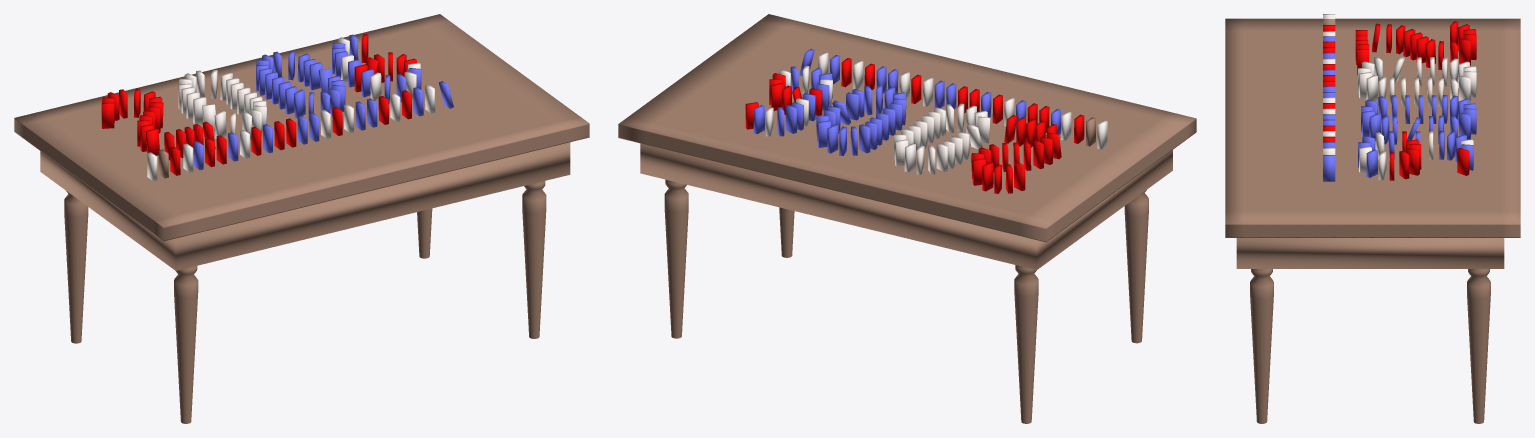
Rendered from friction.dae.
3 views of the same model, side by side, from view 1: azimuth 30°, elevation 25°; view 2: azimuth 150°, elevation 25°; view 3: azimuth 270°, elevation 25° (orthographic).
Parts seen in each view (by area): view 1: Cube, Cube_001, Cube_005-Node, Cube_002-Node, Cube_004, Cube_003-Node; view 2: Cube, Cube_001, Cube_003-Node, Cube_004, Cube_005-Node, Cube_002-Node; view 3: Cube, Cube_001, Cube_002-Node, Cube_003-Node, Cube_006-Node, Cube_116, Cube_105, Cube_119, Cube_073, Cube_098, Cube_060, Cube_037.
Boxes of the visible parts, x1,y1,x2,y2 form: Cube: (14, 14, 589, 241); Cube_001: (40, 142, 570, 270); Cube_005-Node: (174, 266, 198, 423); Cube_002-Node: (522, 181, 546, 338); Cube_004: (64, 191, 88, 343); Cube_003-Node: (417, 208, 432, 258); Cube: (618, 14, 1196, 242); Cube_001: (640, 143, 1172, 269); Cube_003-Node: (664, 179, 688, 338); Cube_004: (1014, 265, 1038, 423); Cube_005-Node: (1124, 190, 1148, 343); Cube_002-Node: (779, 207, 794, 257); Cube: (1225, 18, 1520, 237); Cube_001: (1236, 238, 1504, 268); Cube_002-Node: (1250, 269, 1273, 423); Cube_003-Node: (1467, 269, 1490, 423); Cube_006-Node: (1323, 155, 1335, 181); Cube_116: (1457, 147, 1469, 175); Cube_105: (1366, 149, 1377, 177); Cube_119: (1407, 148, 1419, 175); Cube_073: (1366, 75, 1377, 101); Cube_098: (1399, 150, 1409, 179); Cube_060: (1459, 75, 1471, 102); Cube_037: (1459, 38, 1471, 65).
Size of the model in its own units: 16.55 by 10.07 by 9.02.
